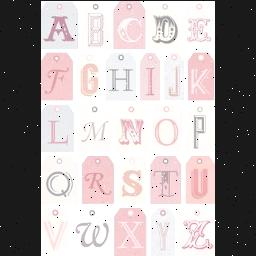a: (44, 12, 76, 46)
f: (46, 58, 70, 92)
h: (106, 64, 134, 94)
i: (146, 68, 156, 96)
l: (42, 114, 76, 150)
r: (86, 166, 110, 190)
u: (188, 166, 210, 198)
w: (77, 216, 113, 254)
x: (118, 219, 144, 253), (84, 117, 112, 147)
